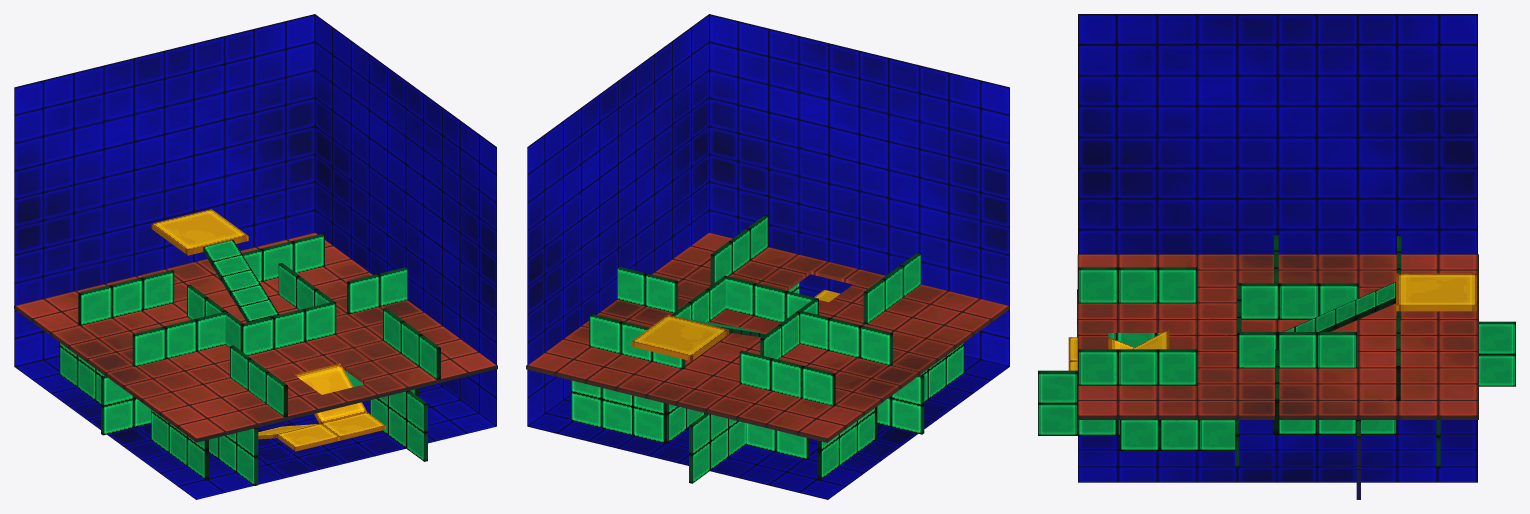
3 renders of one model, left to right at view 1: azimuth 30°, elevation 25°; view 2: azimuth 150°, elevation 25°; view 3: azimuth 270°, elevation 25°, orthographic. The views are drawn at different scales.
Visible parts, largest first — view 1: Box01; view 2: Box01; view 3: Box01.
Boxes of the visible parts, x1,y1,x2,y2 form: Box01: [14, 14, 497, 499]; Box01: [526, 14, 1009, 499]; Box01: [1038, 14, 1515, 499].
Bounding box in the file's own units: 9921 × 7891 × 10980.
6 materials, 6 textured.
